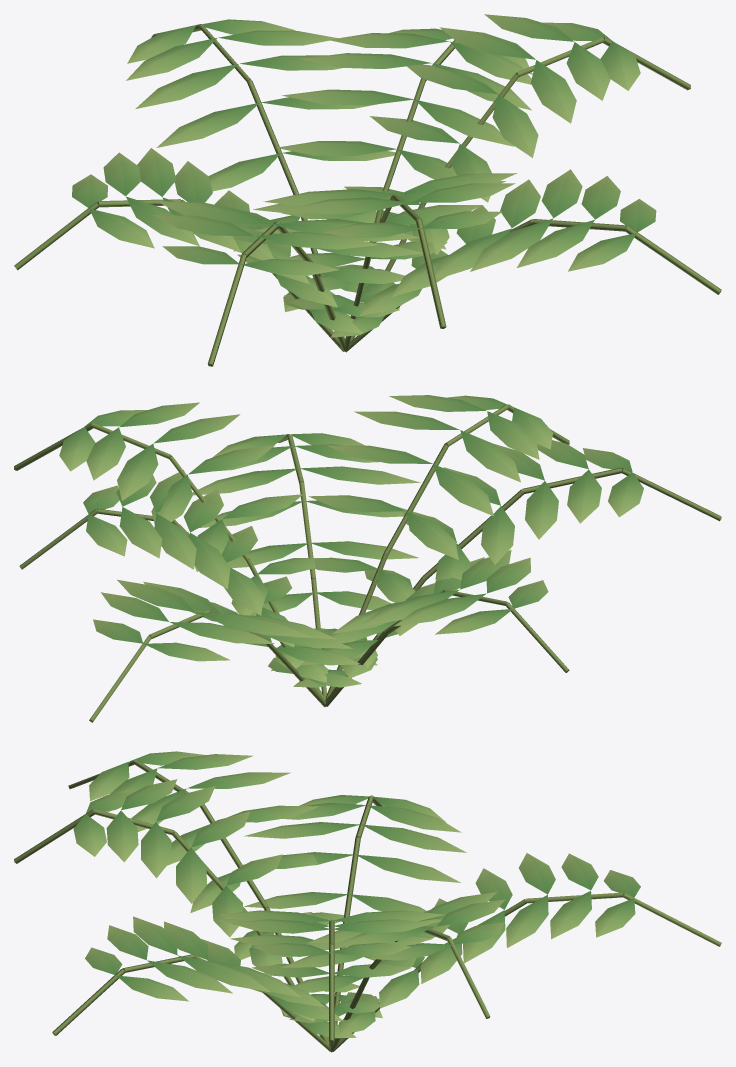
3 views of the same model, one above another, from view 1: azimuth 30°, elevation 25°; view 2: azimuth 150°, elevation 25°; view 3: azimuth 270°, elevation 25° (orthographic). The views are drawn at different scales.
Parts seen in each view (by area): view 1: leaf_blade, Tidemark_arched_jungle_fern_stem; view 2: leaf_blade, Tidemark_arched_jungle_fern_stem; view 3: leaf_blade, Tidemark_arched_jungle_fern_stem.
Part boxes in pixels (bbox=[...]): leaf_blade: bbox=[72, 14, 656, 337]; Tidemark_arched_jungle_fern_stem: bbox=[14, 24, 721, 366]; leaf_blade: bbox=[59, 395, 643, 687]; Tidemark_arched_jungle_fern_stem: bbox=[14, 404, 721, 722]; leaf_blade: bbox=[73, 751, 640, 1038]; Tidemark_arched_jungle_fern_stem: bbox=[14, 759, 721, 1052].
Size of the model in its own units: 2.07 by 0.7834 by 2.27.
Materials: 2 (1 with a texture image).
